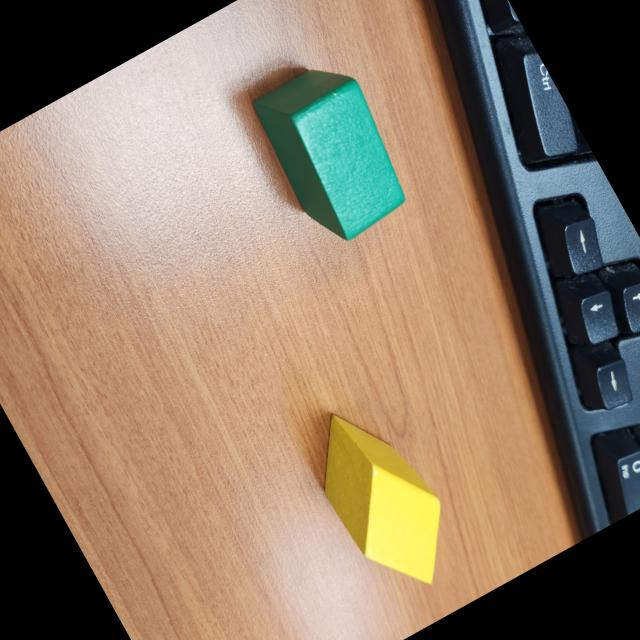green: (245, 50, 423, 252)
yellow: (292, 389, 474, 610)
